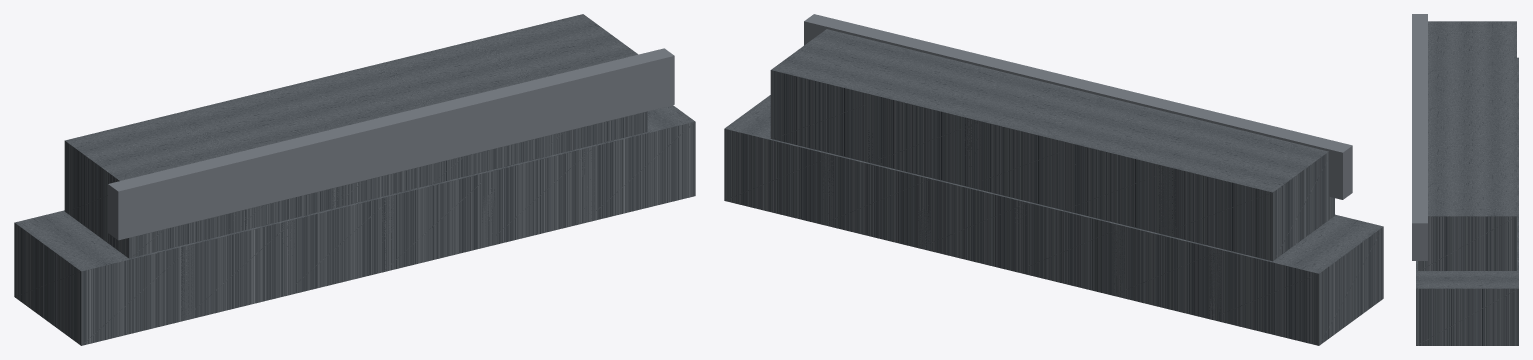
The model's file is reinforced_barricade.glb.
The picture shows the model from 3 angles, left to right: view 1: azimuth 30°, elevation 25°; view 2: azimuth 150°, elevation 25°; view 3: azimuth 270°, elevation 25°; orthographic projection. The views are drawn at different scales.
Visible parts, largest first — view 1: steel_reinforcement_12, reinforced_sandbag_1, upper_sandbag_7, upper_sandbag_10, reinforced_sandbag_6, reinforced_sandbag_4, reinforced_sandbag_5, upper_sandbag_11, reinforced_sandbag_2, upper_sandbag_9, upper_sandbag_8, reinforced_sandbag_3; view 2: upper_sandbag_7, reinforced_sandbag_1, upper_sandbag_10, upper_sandbag_11, upper_sandbag_8, upper_sandbag_9, reinforced_sandbag_6, steel_reinforcement_12, reinforced_sandbag_2, reinforced_sandbag_5, reinforced_sandbag_4, reinforced_sandbag_3; view 3: upper_sandbag_11, reinforced_sandbag_6, upper_sandbag_9, steel_reinforcement_12, upper_sandbag_7, upper_sandbag_8, upper_sandbag_10.
Part boxes in pixels (box(x1,y1,x2,y2)): steel_reinforcement_12: box(108, 48, 674, 240); reinforced_sandbag_1: box(14, 210, 194, 345); upper_sandbag_7: box(64, 112, 246, 258); upper_sandbag_10: box(365, 38, 547, 185); reinforced_sandbag_6: box(581, 105, 695, 220); reinforced_sandbag_4: box(381, 169, 495, 272); reinforced_sandbag_5: box(482, 146, 595, 244); upper_sandbag_11: box(466, 14, 647, 156); reinforced_sandbag_2: box(181, 218, 294, 321); upper_sandbag_9: box(265, 63, 436, 208); upper_sandbag_8: box(173, 91, 346, 229); reinforced_sandbag_3: box(281, 194, 394, 293); upper_sandbag_7: box(1158, 123, 1334, 261); reinforced_sandbag_1: box(1209, 214, 1383, 345); upper_sandbag_10: box(867, 53, 1037, 190); upper_sandbag_11: box(770, 29, 940, 162); upper_sandbag_8: box(1061, 103, 1230, 237); upper_sandbag_9: box(965, 76, 1134, 209); reinforced_sandbag_6: box(724, 95, 833, 224); steel_reinforcement_12: box(804, 14, 1352, 199); reinforced_sandbag_2: box(1112, 223, 1222, 322); reinforced_sandbag_5: box(821, 151, 930, 248); reinforced_sandbag_4: box(918, 175, 1027, 274); reinforced_sandbag_3: box(1015, 199, 1125, 295); upper_sandbag_11: box(1418, 172, 1516, 270); reinforced_sandbag_6: box(1416, 247, 1518, 345); upper_sandbag_9: box(1428, 96, 1516, 140); steel_reinforcement_12: box(1412, 14, 1427, 260); upper_sandbag_7: box(1428, 21, 1516, 65); upper_sandbag_8: box(1428, 59, 1516, 96); upper_sandbag_10: box(1428, 135, 1516, 178).
Bounding box in the file's own units: 2.76 × 0.635 × 0.54.
Materials: 2 (1 with a texture image).
